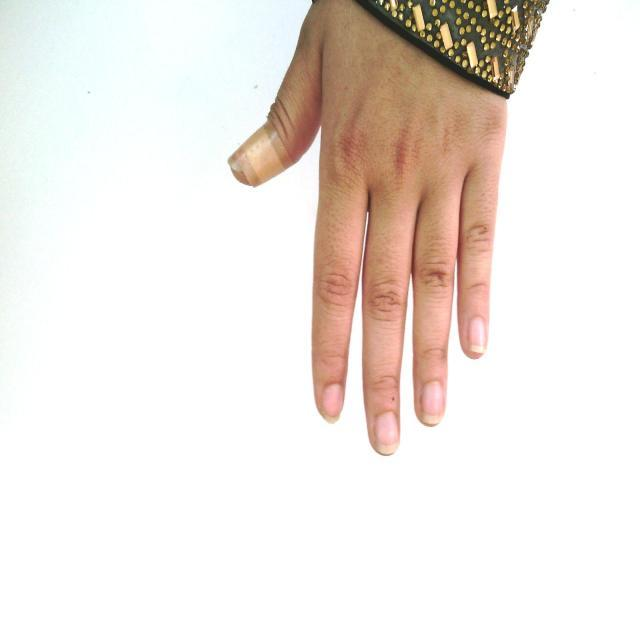Fingernail: (421, 381, 443, 424), (376, 413, 398, 455), (322, 384, 343, 423), (469, 318, 485, 350)
